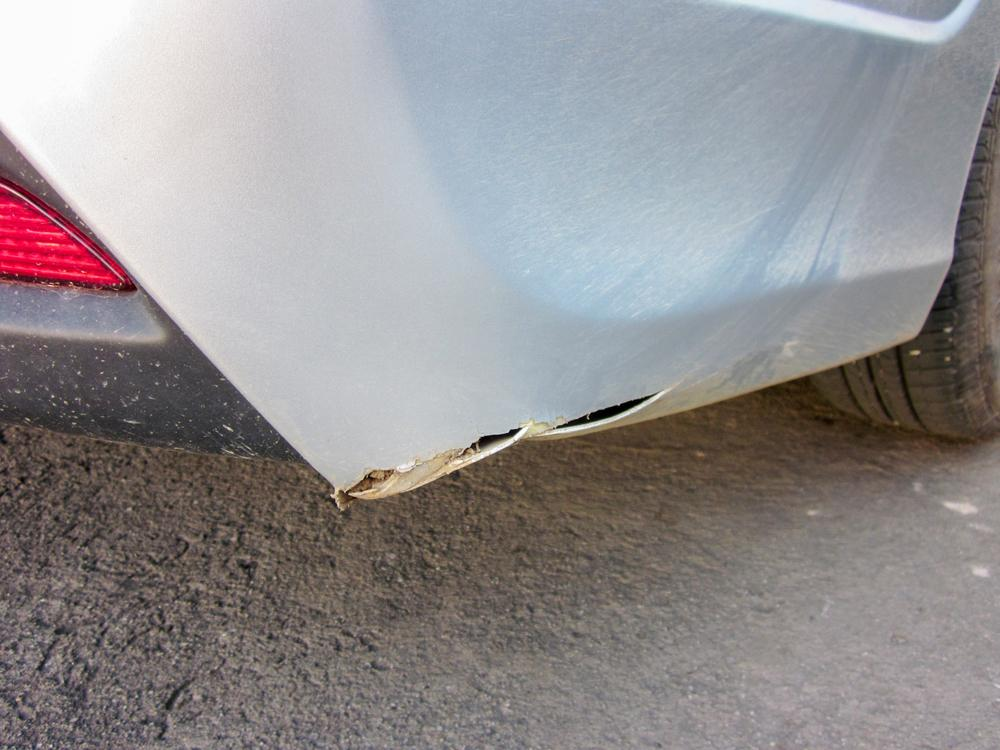crack: (341, 382, 678, 498)
